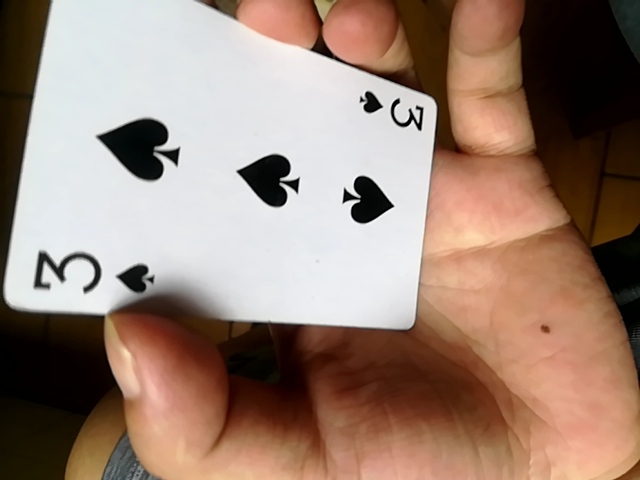ht 3: (7, 0, 441, 339)
